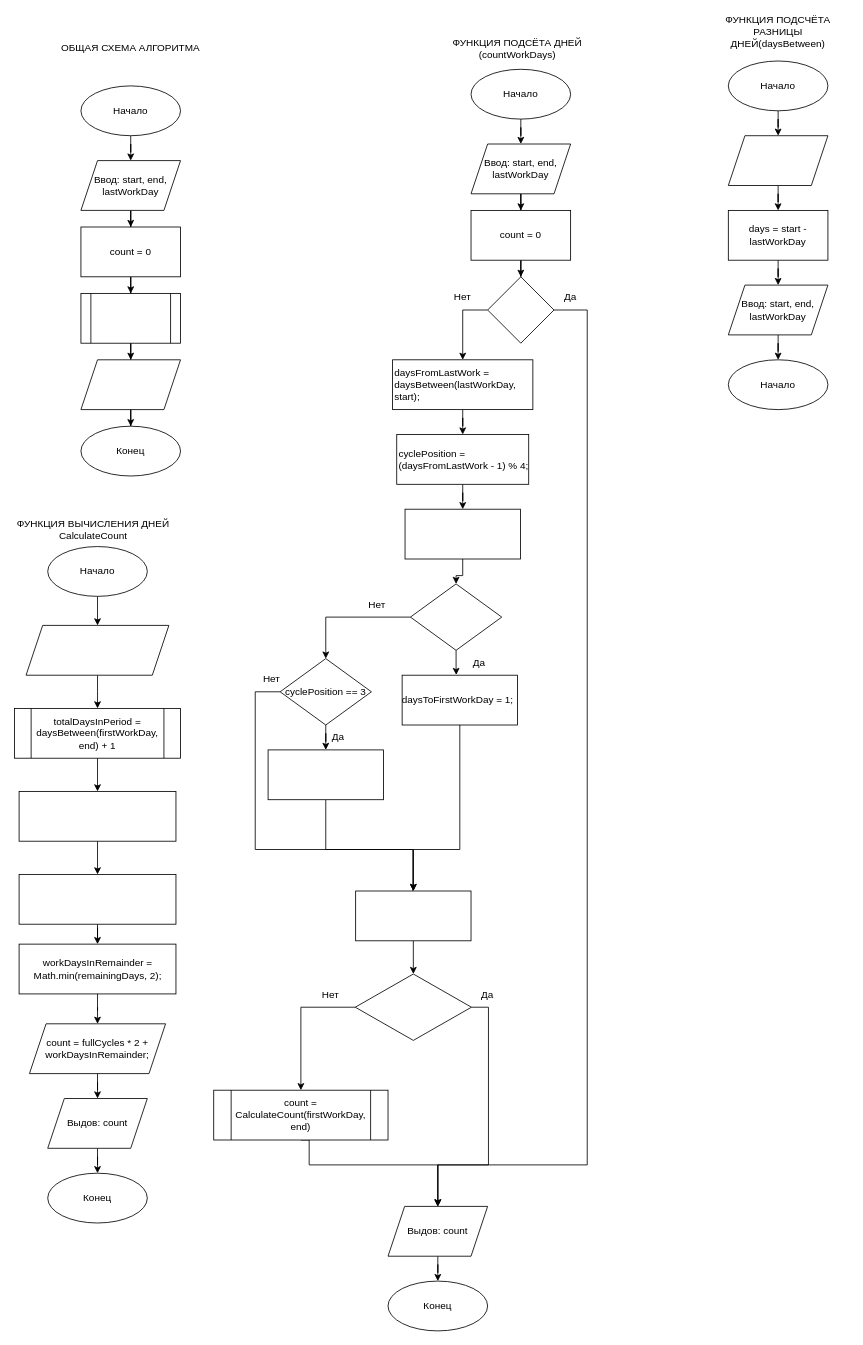
The diagram is 863 pixels wide and 1345 high, and some of its shapes have lost their labels. The shapes that lost their labels are listed below. From the top down, each one's centre as x and y in pixels, then its label:
At point 777,160: "Ввод: start , lastWorkDay".
At point 130,318: "count = countWorkDays (start, end, lastWorkDay)".
At point 520,309: "start > end".
At point 130,384: "Вывод: count".
At point 462,533: "daysToFirstWorkDay = 0;".
At point 456,616: "cyclePosition == 2".
At point 97,650: "Ввод: firstWorkDay, end".
At point 325,774: "daysToFirstWorkDay = 2;".
At point 97,816: "fullCycles = totalDaysInPeriod / 4 ;".
At point 97,899: "remainingDays = totalDaysInPeriod % 4;".
At point 413,915: "firstWorkDay = start + daysToFirstWorkDay".
At point 412,1006: "firstWorkDay > end".
